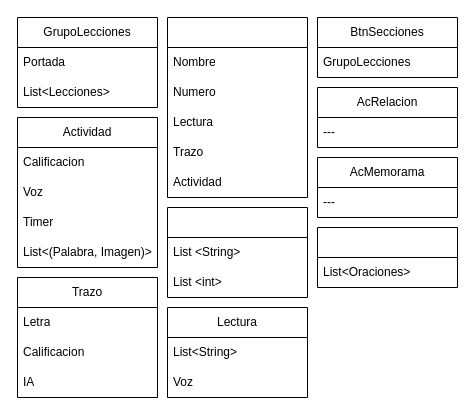
Image size: 475x415. Some labels were removed from this diagram. The shapes that lost their labels are listed below. From the top down, each one's box as (x1, y1, x2, y2) in pixels, then its label:
(166, 16, 308, 198): Leccion
(166, 206, 308, 298): Oraciones
(316, 226, 458, 288): AcCompletar
